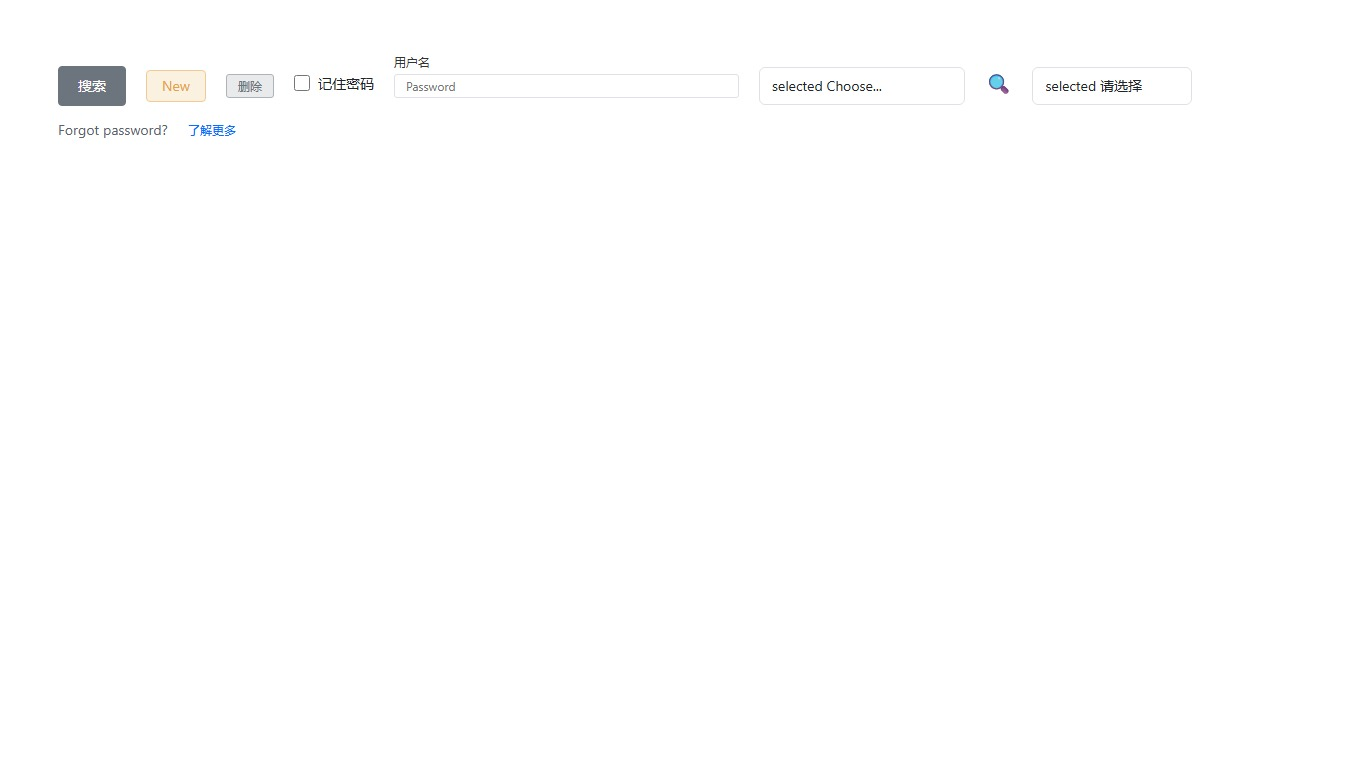button: (58, 66, 126, 106), (146, 70, 206, 102), (226, 74, 274, 98)
checkbox: (294, 75, 310, 91)
icon: (318, 73, 374, 93), (985, 73, 1012, 93)
input: (394, 74, 739, 98)
link: (58, 120, 168, 139), (188, 122, 236, 138)
radio: (294, 73, 374, 93)
select: (759, 66, 965, 104), (1032, 66, 1192, 104)
